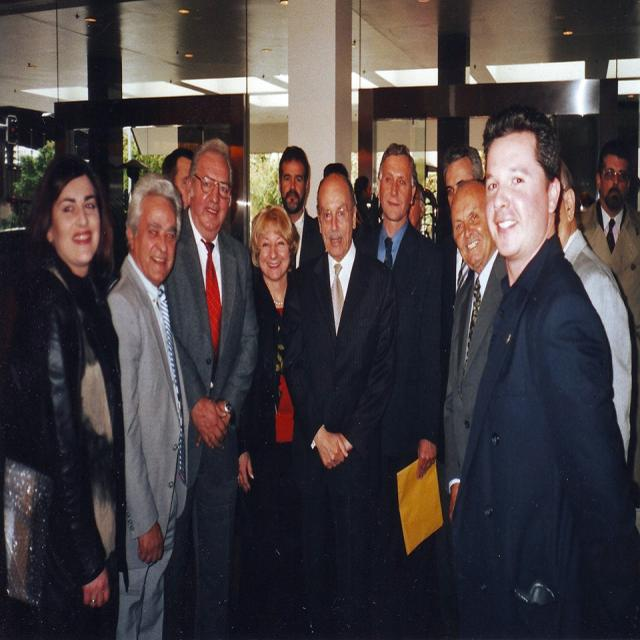body: (453, 103, 625, 624), (0, 149, 135, 639), (279, 169, 400, 639), (161, 134, 265, 639), (351, 139, 447, 639), (104, 169, 192, 639), (236, 206, 324, 638), (550, 153, 636, 466), (441, 178, 509, 527), (577, 138, 640, 513), (0, 96, 184, 218), (434, 143, 484, 542), (322, 160, 427, 232), (276, 143, 326, 274), (159, 142, 196, 212)
